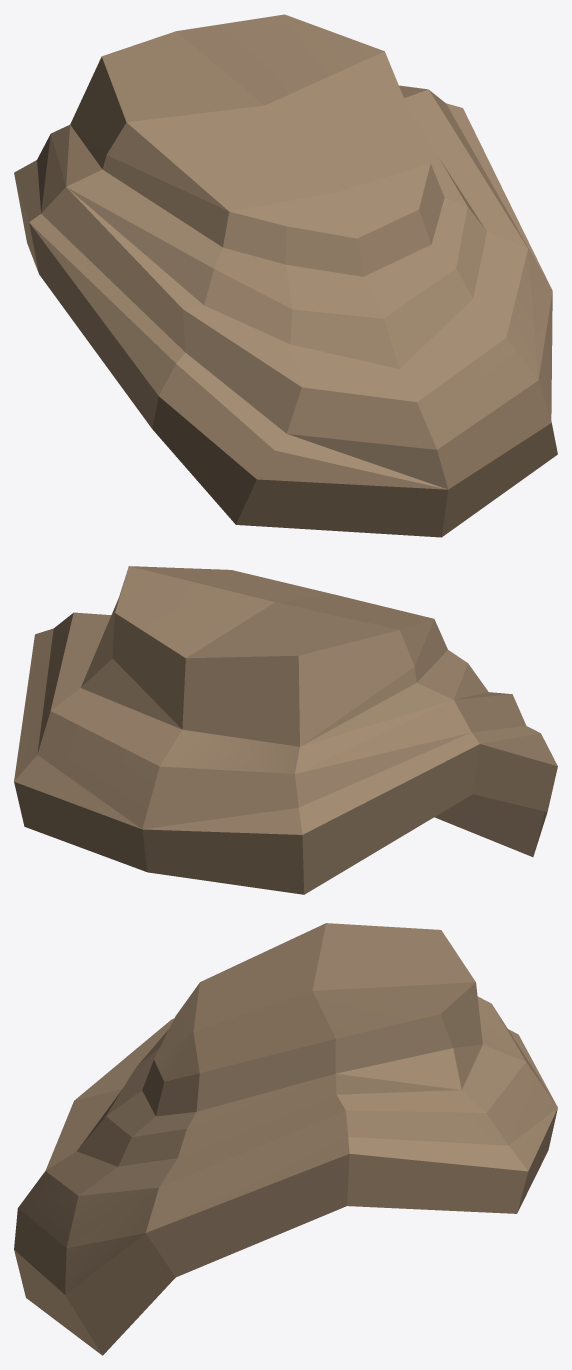
Rendered from Scarf_01_SM.FBX.
The picture shows the model from 3 angles, top to bottom: view 1: azimuth 30°, elevation 25°; view 2: azimuth 150°, elevation 25°; view 3: azimuth 270°, elevation 25°; orthographic projection. The views are drawn at different scales.
Parts seen in each view (by area): view 1: Scarf_01_SM; view 2: Scarf_01_SM; view 3: Scarf_01_SM.
Part boxes in pixels (bbox=[...]): Scarf_01_SM: bbox=[14, 14, 557, 537]; Scarf_01_SM: bbox=[14, 566, 557, 894]; Scarf_01_SM: bbox=[14, 923, 557, 1355].
Size of what is drawn, in the model's own units: 22.59 by 26.41 by 16.96.
